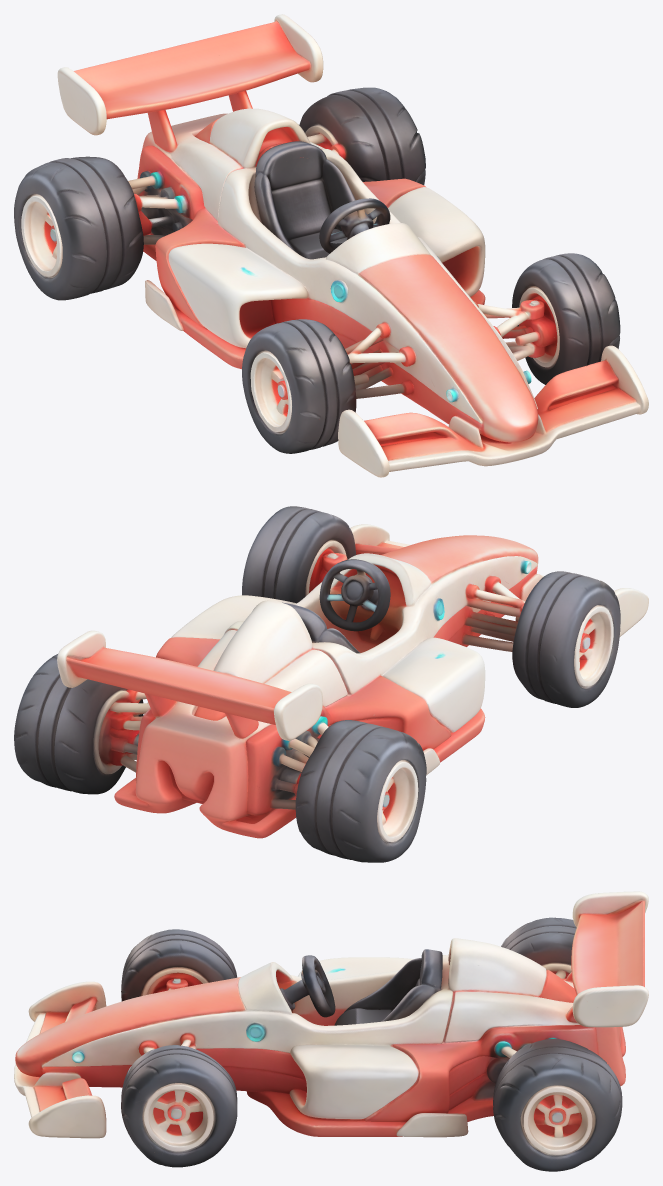
File: comet-original.glb
3 renders of one model, top to bottom at view 1: azimuth 30°, elevation 25°; view 2: azimuth 150°, elevation 25°; view 3: azimuth 270°, elevation 25°, orthographic. The views are drawn at different scales.
Parts seen in each view (by area): view 1: model; view 2: model; view 3: model.
Boxes of the visible parts, x1,y1,x2,y2 form: model: [14, 14, 648, 477]; model: [14, 506, 648, 862]; model: [14, 891, 648, 1171].
Bounding box in the file's own units: 1.11 × 0.5354 × 1.9.
1 material, 1 textured.
